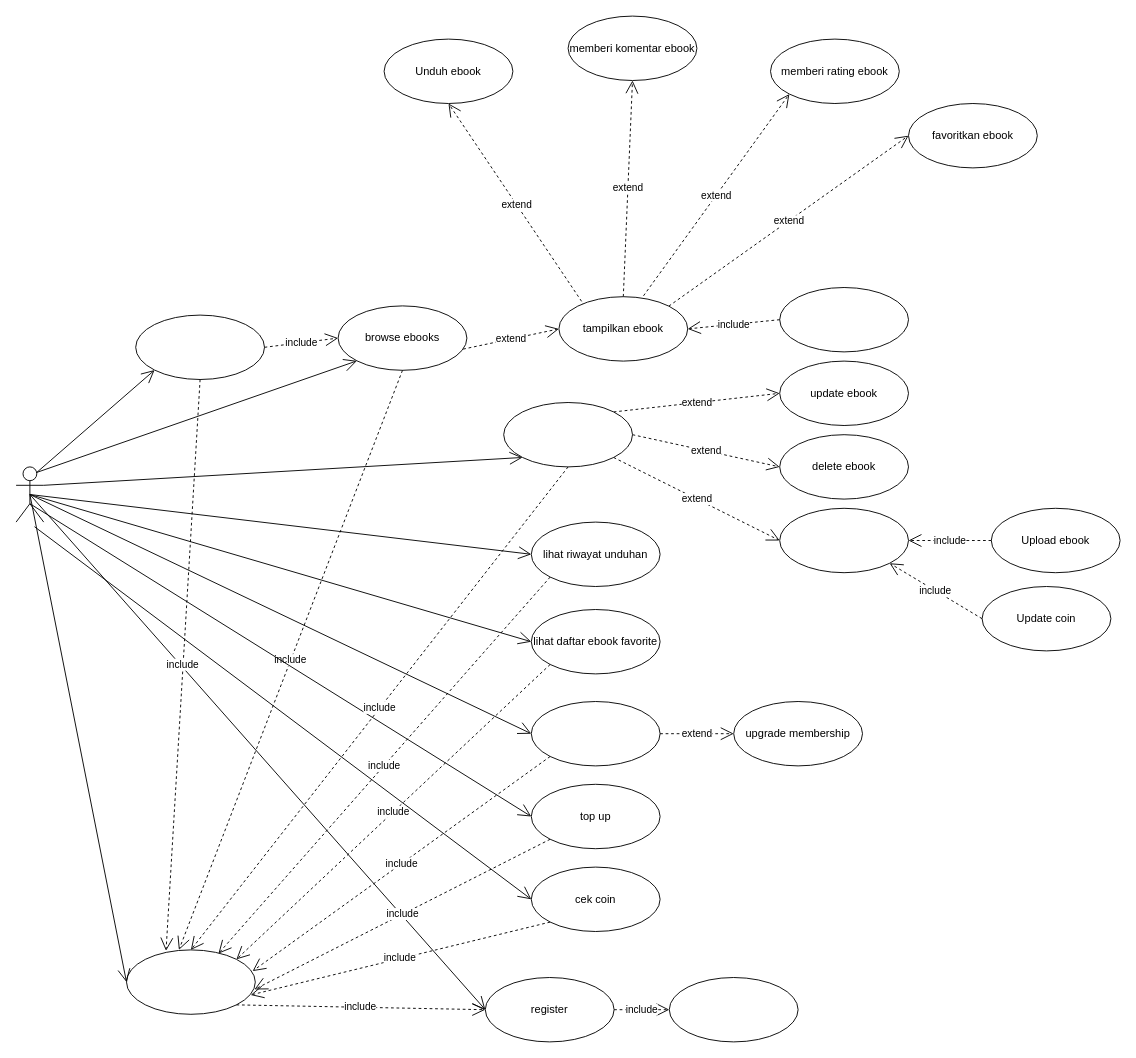
The diagram is 1136 pixels wide and 1058 high, and some of its shapes have lost their labels. Here are the shapes that lost their labels. From the top down, the centre of each, then its label:
At (843,319): "lihat statistik ebook".
At (199,347): "search ebook".
At (567,434): "browse ebooks saya".
At (29,494): "User".
At (843,540): "Tambah ebook".
At (595,733): "lihat user detail".
At (190,981): "login".
At (733,1009): "validasi".
